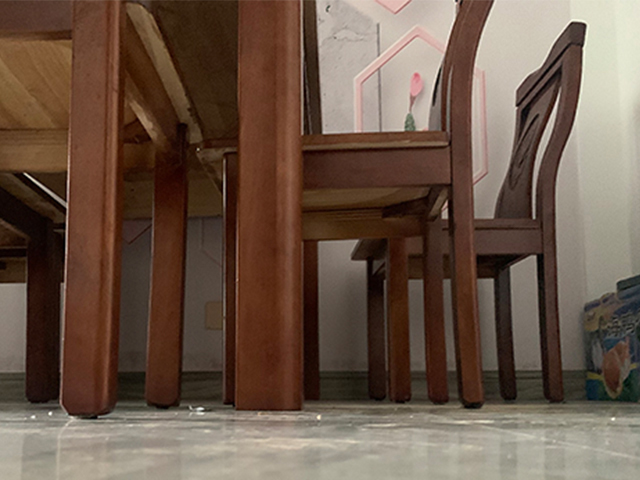stool: (195, 1, 496, 409), (350, 19, 588, 405), (1, 1, 203, 421)
